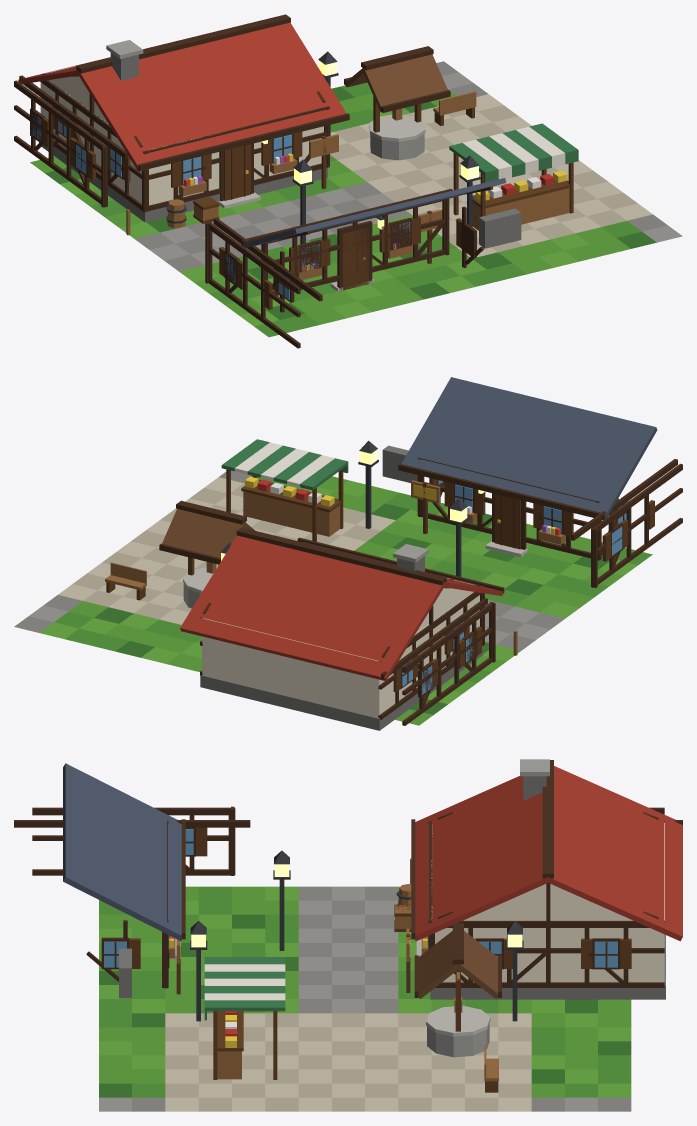
File: chunk_5_5.glb
The picture shows the model from 3 angles, top to bottom: view 1: azimuth 30°, elevation 25°; view 2: azimuth 150°, elevation 25°; view 3: azimuth 270°, elevation 25°; orthographic projection. The views are drawn at different scales.
Parts seen in each view (by area): view 1: chunk_5_5; view 2: chunk_5_5; view 3: chunk_5_5.
Part boxes in pixels (x1,y1,x2,y2): chunk_5_5: (14, 14, 682, 348); chunk_5_5: (14, 377, 682, 730); chunk_5_5: (14, 759, 682, 1111).
Bounding box in the file's own units: 16.1 × 4.94 × 20.1.
